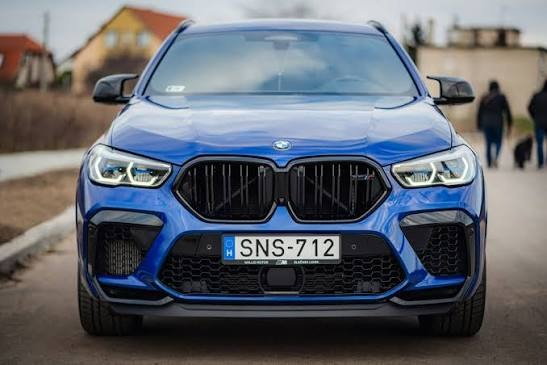car: (67, 17, 473, 324), (1, 31, 55, 90), (1, 30, 54, 89), (91, 70, 143, 105), (426, 71, 477, 105)
